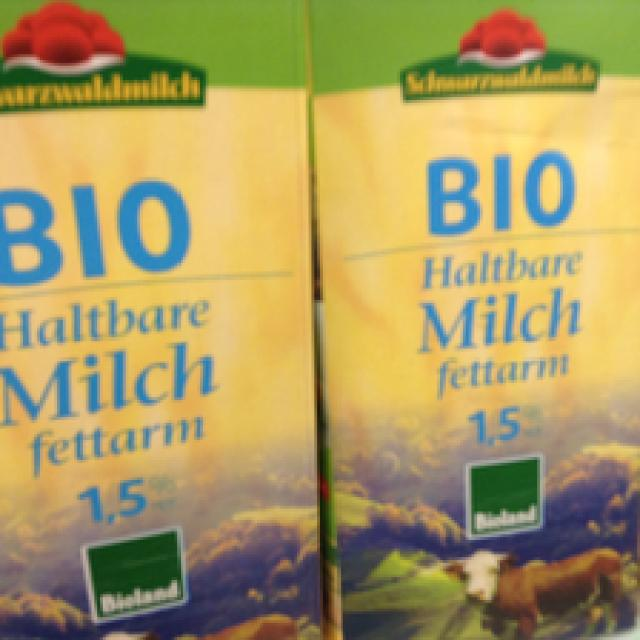groceries: (302, 0, 631, 634), (0, 0, 323, 637)
